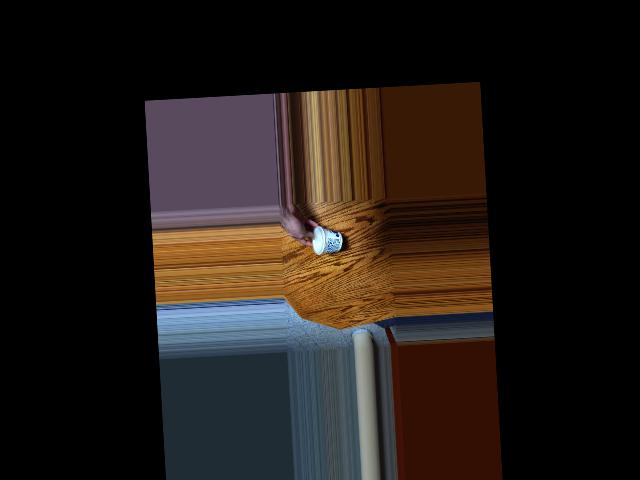cotage: (306, 224, 339, 258)
